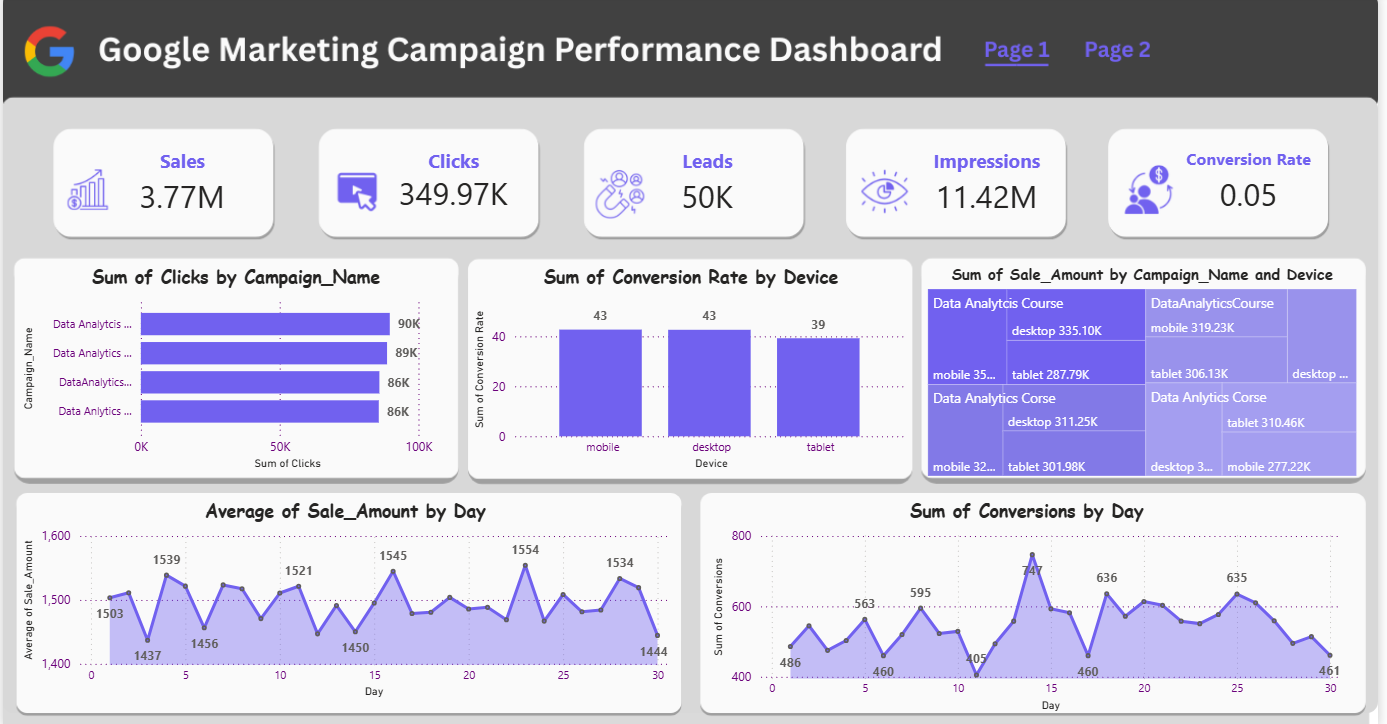

This screenshot's page, from the dashboard's own definition file:
{"tool":"powerbi","page":{"name":"Page 1","canvas":[1350,720],"ordinal":0},"visuals":[{"type":"barChart","fields":{"Category":["cleaned_marketing_data.Campaign_Name"],"Y":["Sum(cleaned_marketing_data.Clicks)"]},"box":[14.7,263.8,428.2,207.4],"z":0},{"type":"columnChart","fields":{"Y":["Sum(cleaned_marketing_data.Conversion Rate)"],"Category":["cleaned_marketing_data.Device"]},"box":[457.7,263.8,435.6,207.4],"z":1000},{"type":"treemap","fields":{"Group":["cleaned_marketing_data.Campaign_Name"],"Values":["Sum(cleaned_marketing_data.Sale_Amount)"],"Details":["cleaned_marketing_data.Device"]},"box":[903.1,263.8,430.7,213.5],"z":2000},{"type":"lineChart","fields":{"Y":["Avg(cleaned_marketing_data.Sale_Amount)"],"Category":["cleaned_marketing_data.Ad_Date.Variation.Date Hierarchy.Day"]},"box":[14.7,493.3,650.3,203.7],"z":3000},{"type":"lineChart","fields":{"Category":["cleaned_marketing_data.Ad_Date.Variation.Date Hierarchy.Day"],"Y":["Sum(cleaned_marketing_data.Conversions)"]},"box":[692,493.3,641.7,203.7],"z":4000},{"type":"card","title":"Sales","fields":{"Values":["Sum(cleaned_marketing_data.Sale_Amount)"]},"box":[105.5,149.7,141.1,71.2],"z":4001},{"type":"card","title":"Clicks","fields":{"Values":["Sum(cleaned_marketing_data.Clicks)"]},"box":[380.4,149.7,123.9,65],"z":4002},{"type":"card","title":"Leads","fields":{"Values":["Sum(cleaned_marketing_data.Leads)"]},"box":[622.1,149.7,138.7,71.2],"z":4003},{"type":"card","title":"Impressions","fields":{"Values":["Sum(cleaned_marketing_data.Impressions)"]},"box":[867.5,149.7,196.3,71.2],"z":4004},{"type":"card","title":"Conversion Rate","fields":{"Values":["Avg(cleaned_marketing_data.Conversion Rate)"]},"box":[1119,149.7,182.8,71.2],"z":4005},{"type":"actionButton","box":[1045.4,33.1,99.4,40.5],"z":4006}]}

Visuals, with their boxes in screenshot pixels (x1, y1, x2, y2), scaled from the page's 1350x720 canvas onto the 1387x724 screenshot:
barChart - cleaned_marketing_data.Campaign_Name x Sum(cleaned_marketing_data.Clicks): [left=15, top=265, right=455, bottom=474]
columnChart - Sum(cleaned_marketing_data.Conversion Rate) x cleaned_marketing_data.Device: [left=470, top=265, right=918, bottom=474]
treemap - cleaned_marketing_data.Campaign_Name x Sum(cleaned_marketing_data.Sale_Amount): [left=928, top=265, right=1370, bottom=480]
lineChart - Avg(cleaned_marketing_data.Sale_Amount) x cleaned_marketing_data.Ad_Date.Variation.Date Hierarchy.Day: [left=15, top=496, right=683, bottom=701]
lineChart - cleaned_marketing_data.Ad_Date.Variation.Date Hierarchy.Day x Sum(cleaned_marketing_data.Conversions): [left=711, top=496, right=1370, bottom=701]
"Sales" card: [left=108, top=151, right=253, bottom=222]
"Clicks" card: [left=391, top=151, right=518, bottom=216]
"Leads" card: [left=639, top=151, right=782, bottom=222]
"Impressions" card: [left=891, top=151, right=1093, bottom=222]
"Conversion Rate" card: [left=1150, top=151, right=1337, bottom=222]
actionButton: [left=1074, top=33, right=1176, bottom=74]
